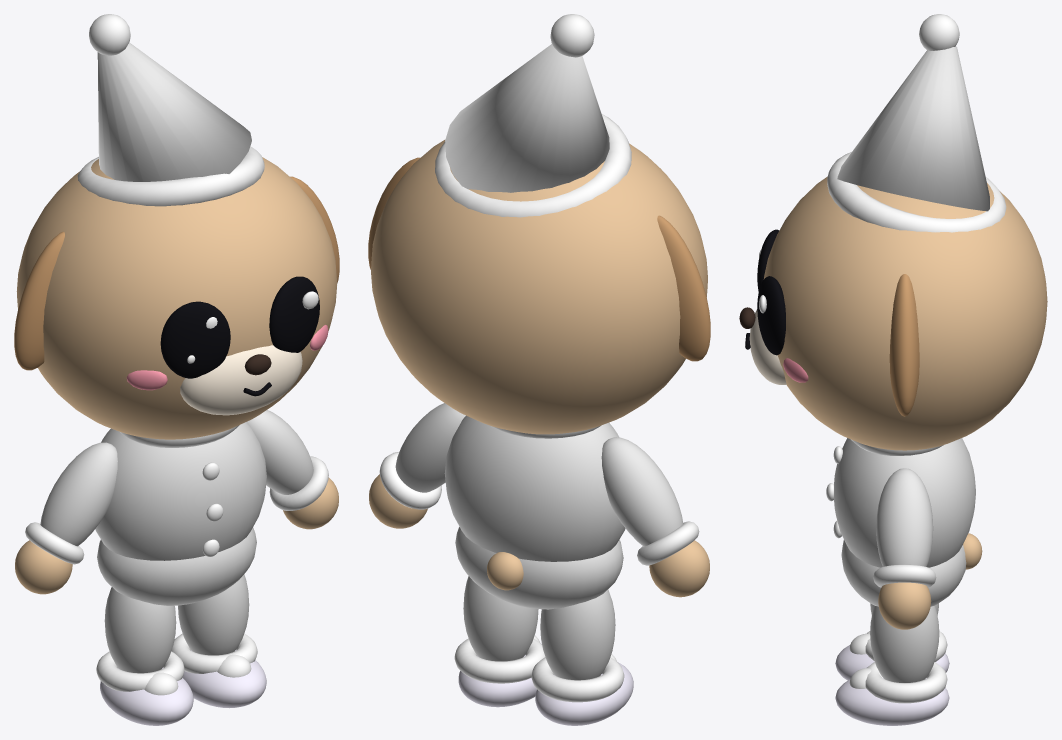
File: Biscuit_Puppy.fbx
3 renders of one model, left to right at view 1: azimuth 30°, elevation 25°; view 2: azimuth 150°, elevation 25°; view 3: azimuth 270°, elevation 25°, orthographic. The views are drawn at different scales.
Parts seen in each view (by area): view 1: Biscuit_Puppy_Head, Biscuit_Puppy_UpperTorso, Biscuit_Puppy_LowerTorso, Biscuit_Puppy_RightUpperArm, Biscuit_Puppy_RightUpperLeg, Biscuit_Puppy_LeftUpperLeg, Biscuit_Puppy_LeftUpperArm, Biscuit_Puppy_RightFoot, Biscuit_Puppy_LeftFoot, Biscuit_Puppy_RightHand, Biscuit_Puppy_LeftHand; view 2: Biscuit_Puppy_Head, Biscuit_Puppy_UpperTorso, Biscuit_Puppy_RightUpperLeg, Biscuit_Puppy_LowerTorso, Biscuit_Puppy_RightUpperArm, Biscuit_Puppy_LeftUpperLeg, Biscuit_Puppy_LeftUpperArm, Biscuit_Puppy_RightFoot, Biscuit_Puppy_RightHand, Biscuit_Puppy_LeftFoot, Biscuit_Puppy_LeftHand; view 3: Biscuit_Puppy_Head, Biscuit_Puppy_UpperTorso, Biscuit_Puppy_LeftUpperArm, Biscuit_Puppy_LeftUpperLeg, Biscuit_Puppy_LeftFoot, Biscuit_Puppy_LowerTorso, Biscuit_Puppy_LeftHand, Biscuit_Puppy_RightFoot.
Part boxes in pixels (<box>): Biscuit_Puppy_Head: <box>14,14,339,439</box>; Biscuit_Puppy_UpperTorso: <box>95,422,266,560</box>; Biscuit_Puppy_LowerTorso: <box>97,527,256,605</box>; Biscuit_Puppy_RightUpperArm: <box>25,442,117,564</box>; Biscuit_Puppy_RightUpperLeg: <box>96,587,184,691</box>; Biscuit_Puppy_LeftUpperLeg: <box>171,574,257,673</box>; Biscuit_Puppy_LeftUpperArm: <box>247,410,328,510</box>; Biscuit_Puppy_RightFoot: <box>100,667,193,725</box>; Biscuit_Puppy_LeftFoot: <box>182,650,266,708</box>; Biscuit_Puppy_RightHand: <box>15,540,72,594</box>; Biscuit_Puppy_LeftHand: <box>283,477,338,529</box>; Biscuit_Puppy_Head: <box>368,14,710,434</box>; Biscuit_Puppy_UpperTorso: <box>444,415,625,561</box>; Biscuit_Puppy_RightUpperLeg: <box>531,589,624,702</box>; Biscuit_Puppy_LowerTorso: <box>455,527,623,609</box>; Biscuit_Puppy_RightUpperArm: <box>601,437,699,565</box>; Biscuit_Puppy_LeftUpperLeg: <box>454,576,545,683</box>; Biscuit_Puppy_LeftUpperArm: <box>379,403,465,509</box>; Biscuit_Puppy_RightFoot: <box>535,654,633,725</box>; Biscuit_Puppy_RightHand: <box>649,540,709,597</box>; Biscuit_Puppy_LeftFoot: <box>458,635,541,707</box>; Biscuit_Puppy_LeftHand: <box>369,474,427,528</box>; Biscuit_Puppy_Head: <box>739,14,1047,450</box>; Biscuit_Puppy_UpperTorso: <box>826,438,975,567</box>; Biscuit_Puppy_LeftUpperArm: <box>873,468,936,587</box>; Biscuit_Puppy_LeftUpperLeg: <box>865,605,947,703</box>; Biscuit_Puppy_LeftFoot: <box>835,668,949,725</box>; Biscuit_Puppy_LowerTorso: <box>841,533,982,606</box>; Biscuit_Puppy_LeftHand: <box>878,582,931,629</box>; Biscuit_Puppy_RightFoot: <box>835,633,949,680</box>.
Size of the model in its own units: 1.77 by 3.59 by 1.51.
